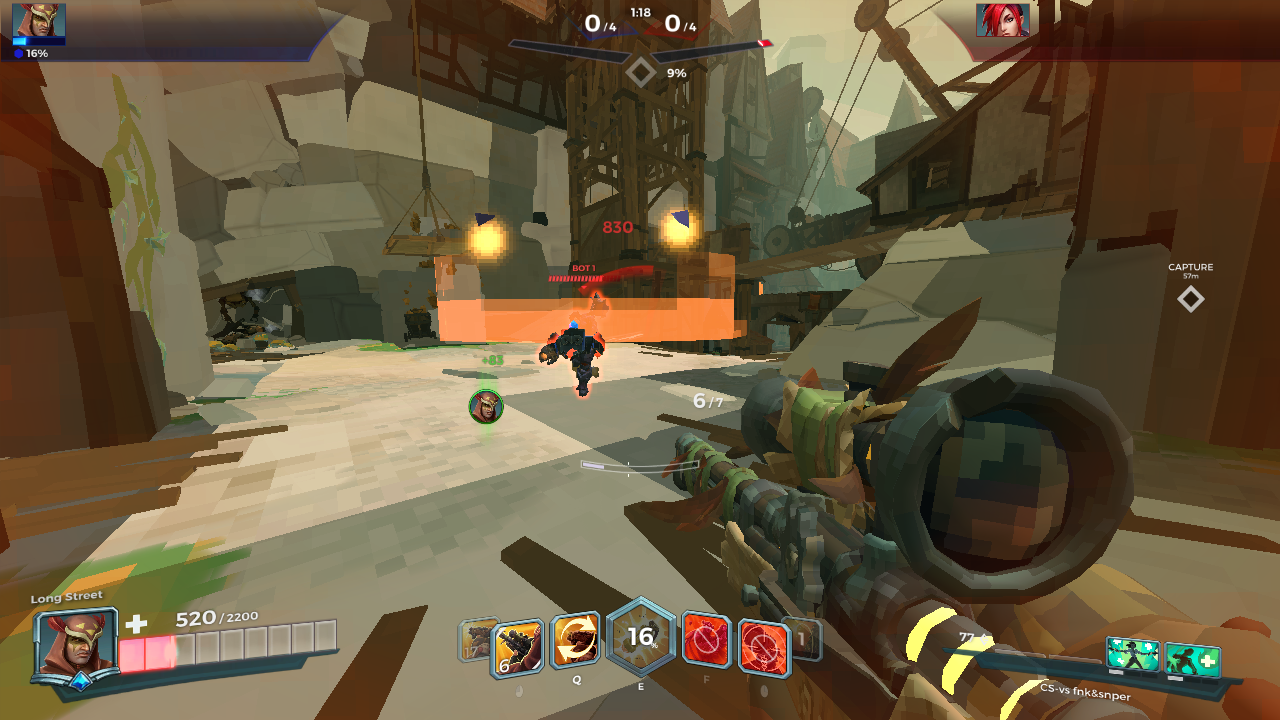model: (528, 282, 619, 400)
